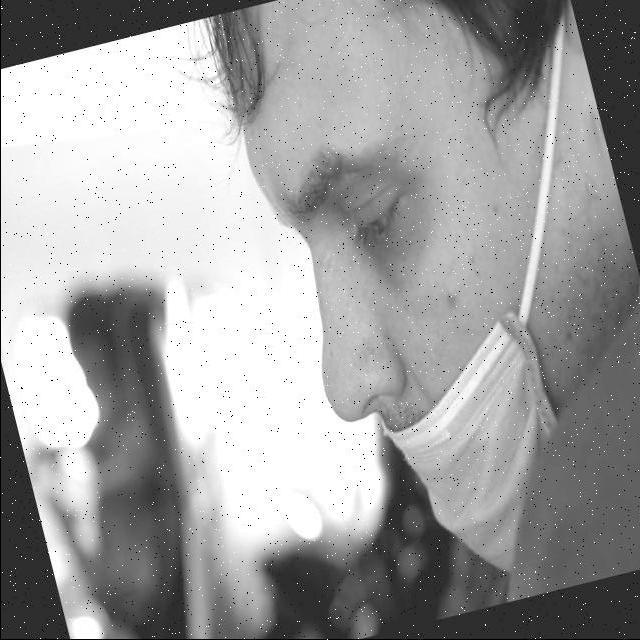no_gloves: (217, 0, 640, 167)
no_hairnet: (294, 218, 482, 380)
